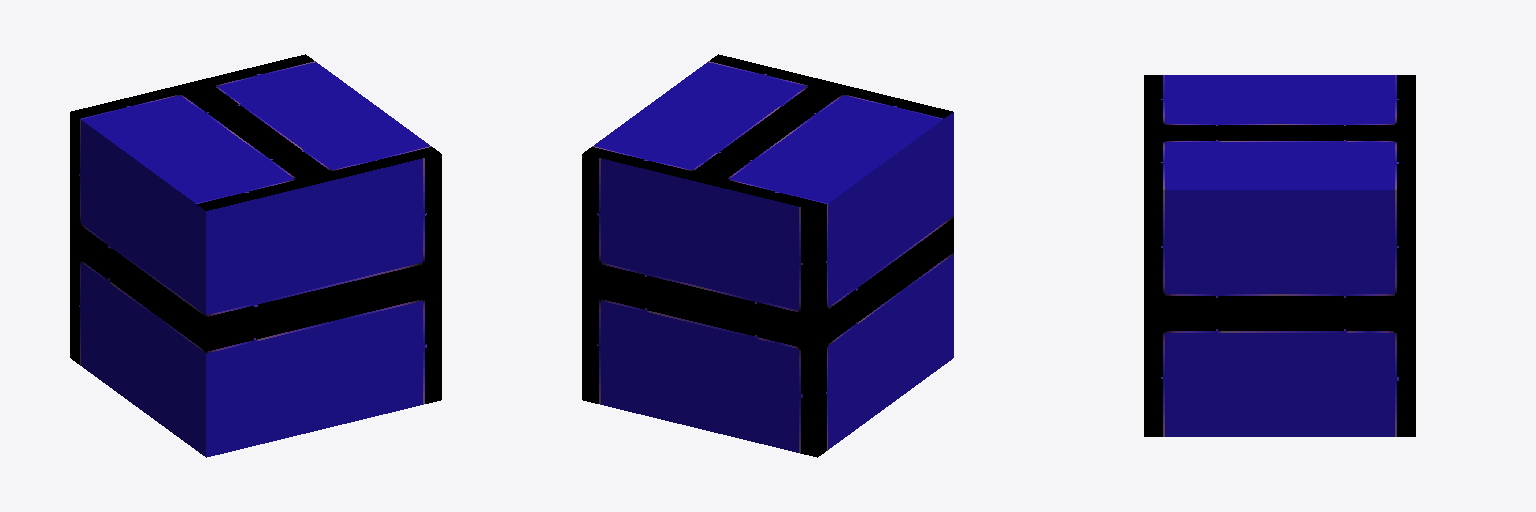
3 renders of one model, left to right at view 1: azimuth 30°, elevation 25°; view 2: azimuth 150°, elevation 25°; view 3: azimuth 270°, elevation 25°, orthographic.
Parts seen in each view (by area): view 1: Cube; view 2: Cube; view 3: Cube.
Boxes of the visible parts, x1=… form: Cube: x1=70, y1=54, x2=441, y2=457; Cube: x1=582, y1=54, x2=953, y2=457; Cube: x1=1144, y1=75, x2=1415, y2=436.
Bounding box in the file's own units: 2 × 2 × 2.
Materials: 1 (1 with a texture image).